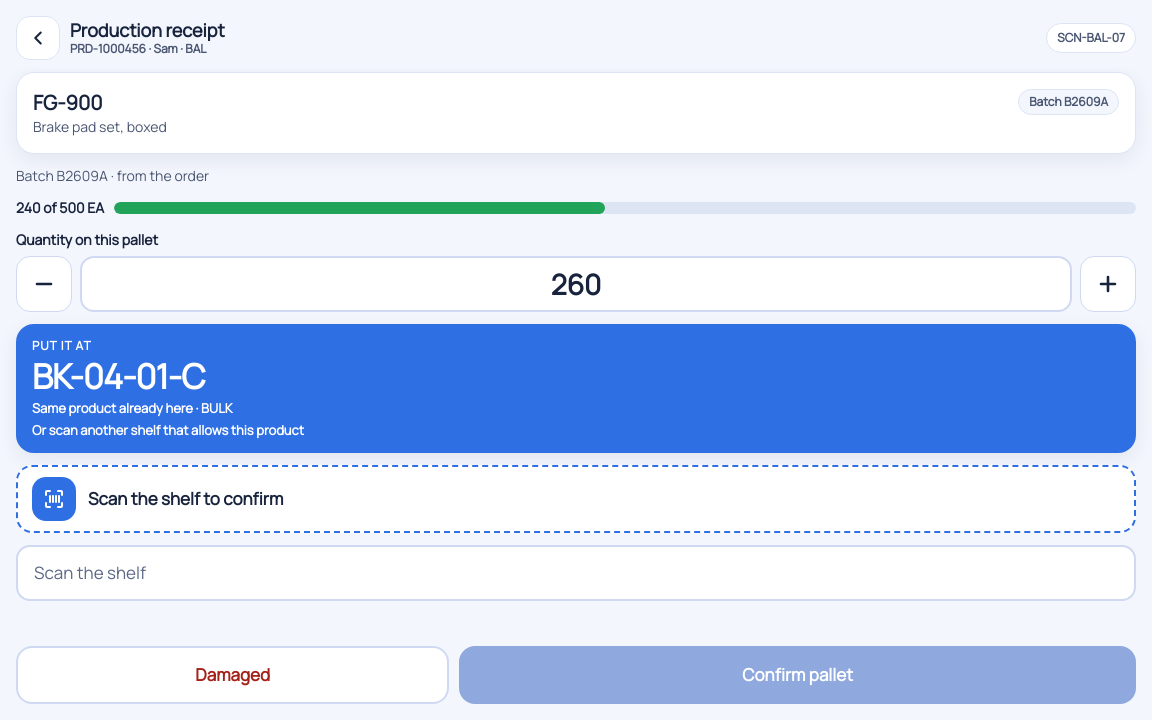
ProductionReceipt › receives a pallet onto a scanned shelf and says how much is made so far
The image size is (1152, 720).
Expected: the text "PRD-1000456" is shown, [70,41,146,57]
Expected: the text "Production receipt" is shown, [70,18,225,42]
Type "BK-04-01-C" into the field labelled "Scan" at (576, 573), box [16,545,1136,601]
Then press Enter
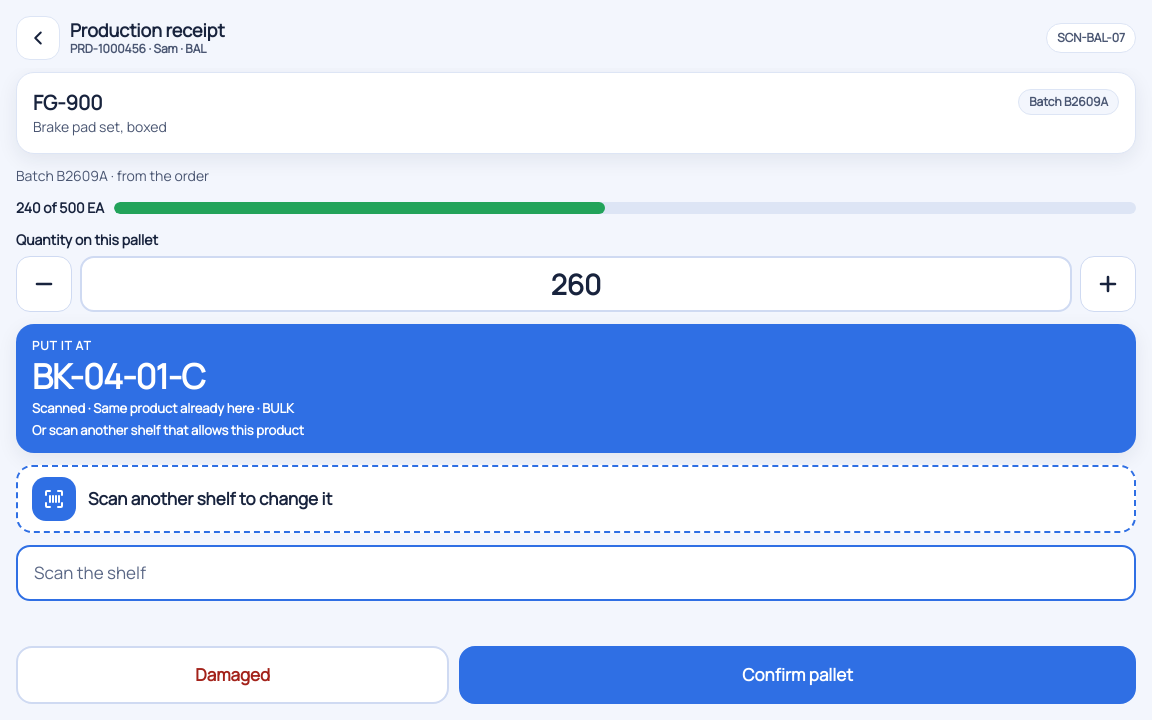
Now the button "Confirm pallet" is enabled
Now the text "Scanned · Same product already here · BULK" is shown, box [32,399,294,417]
Click the button "Confirm pallet" at (798, 675), box [459,646,1136,704]
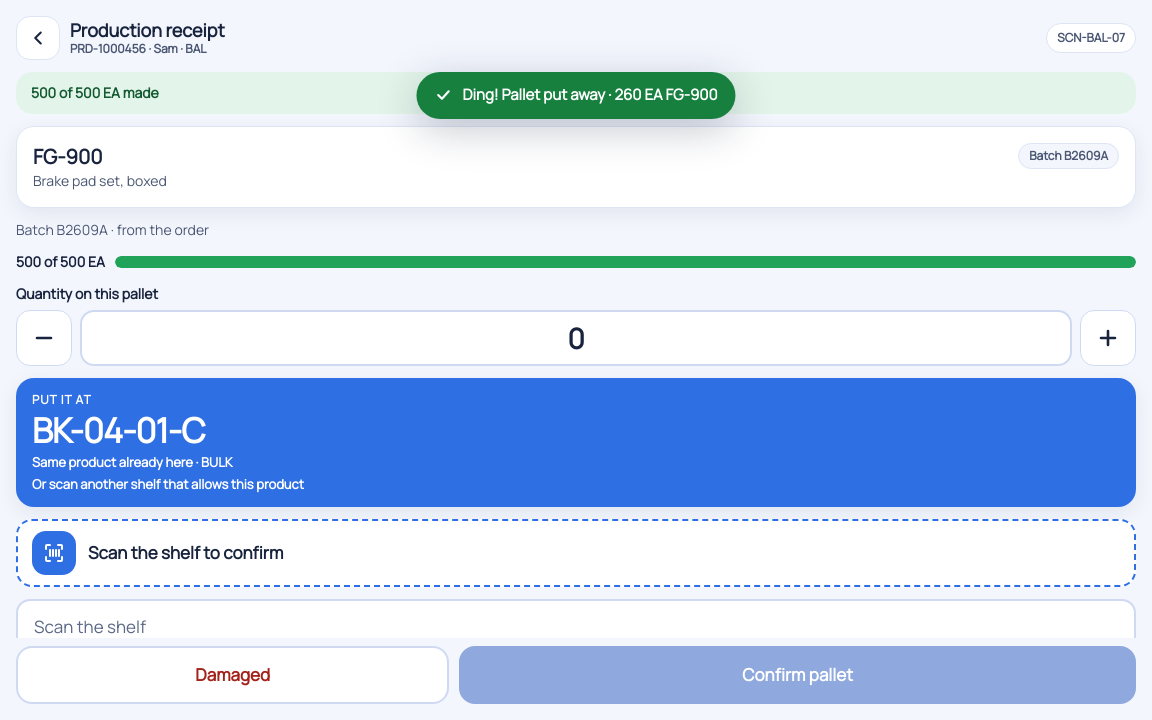
Now the text "500 of 500 EA made" is shown, box [16,72,1136,114]
